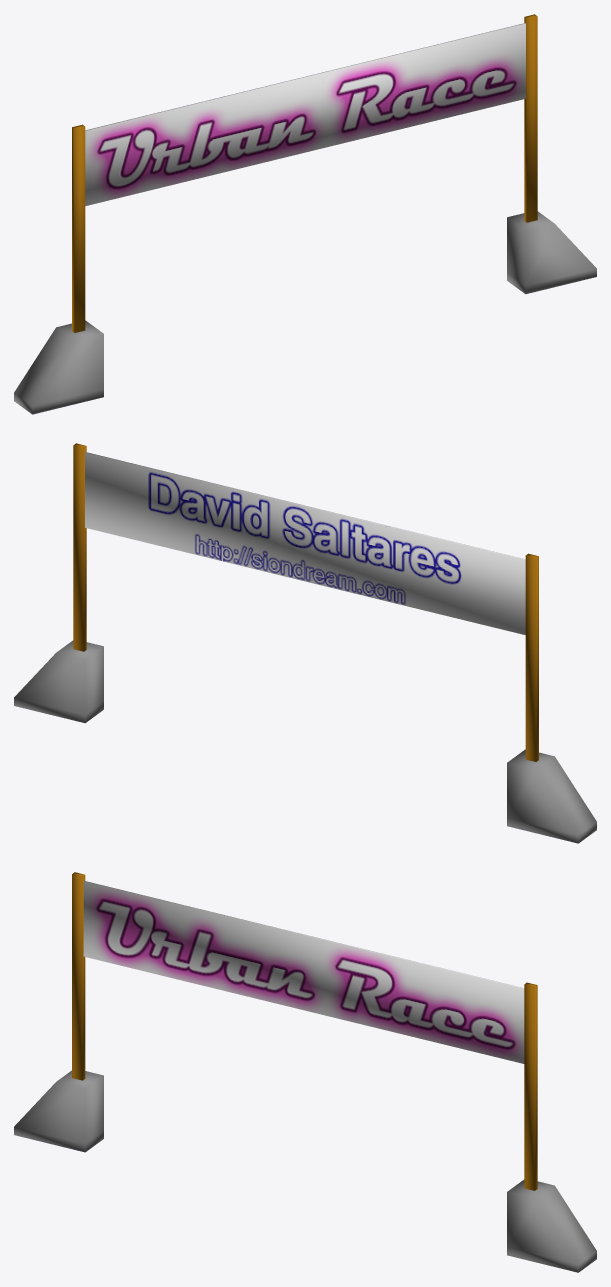
Rendered from goal.obj.
3 renders of one model, top to bottom at view 1: azimuth 30°, elevation 25°; view 2: azimuth 150°, elevation 25°; view 3: azimuth 330°, elevation 25°, orthographic.
Visible parts, largest first — view 1: geometry_goal; view 2: geometry_goal; view 3: geometry_goal.
Part boxes in pixels (left/top/right/bottom): geometry_goal: left=14, top=14, right=596, bottom=414; geometry_goal: left=14, top=443, right=596, bottom=843; geometry_goal: left=14, top=872, right=596, bottom=1272.
Size of the model in its own units: 25.65 by 11.61 by 1.45.
Materials: 1 (1 with a texture image).
